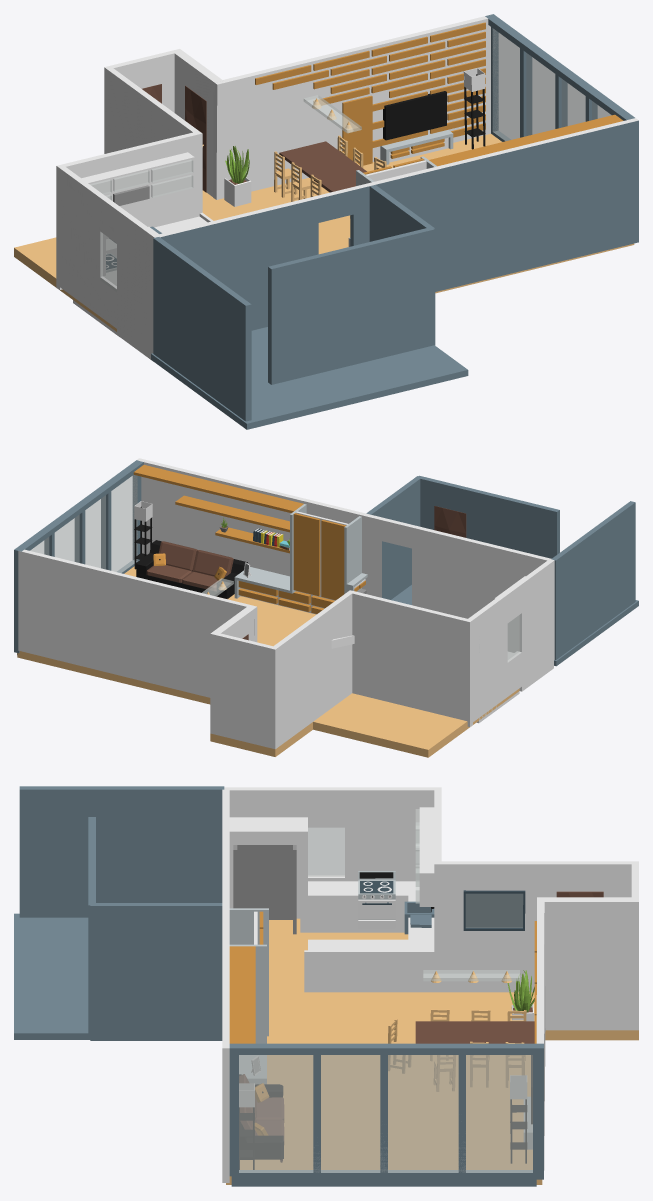
The model's file is Apartment 2.glb.
3 renders of one model, top to bottom at view 1: azimuth 30°, elevation 25°; view 2: azimuth 150°, elevation 25°; view 3: azimuth 270°, elevation 25°, orthographic. The views are drawn at different scales.
Visible parts, largest first — view 1: group1746347321, group926800614, group346189844, group627659848, group1674435249, group1330736771, group787289202, group1969353276, group1898339029, group1656007463, group459815756, group888194674 (+17 smaller); view 2: group346189844, group1898339029, group1746347321, group1969353276, group627659848, group1330736771, group787289202, group1656007463, group1265978389, group926800614, group459815756, group15682012 (+23 smaller); view 3: group787289202, group1969353276, group627659848, group15682012, group1656007463, group919151411, group1674435249, group534979321, group635494593, group1680601114, group1741639174, group1357782384 (+25 smaller).
Part boxes in pixels (bbox=[...]): group1746347321: bbox=[350, 118, 638, 291]; group926800614: bbox=[268, 228, 434, 384]; group346189844: bbox=[213, 16, 490, 199]; group627659848: bbox=[153, 237, 251, 421]; group1674435249: bbox=[151, 327, 468, 429]; group1330736771: bbox=[152, 196, 318, 353]; group787289202: bbox=[485, 14, 634, 141]; group1969353276: bbox=[14, 134, 634, 331]; group1898339029: bbox=[56, 132, 196, 289]; group1656007463: bbox=[107, 68, 202, 216]; group459815756: bbox=[117, 208, 159, 361]; group888194674: bbox=[60, 152, 194, 218]; group346189844: bbox=[18, 549, 257, 697]; group1898339029: bbox=[352, 591, 472, 726]; group1746347321: bbox=[137, 458, 384, 598]; group1969353276: bbox=[17, 566, 519, 757]; group627659848: bbox=[551, 501, 635, 659]; group1330736771: bbox=[412, 525, 554, 666]; group787289202: bbox=[14, 460, 143, 654]; group1656007463: bbox=[274, 590, 354, 746]; group1265978389: bbox=[215, 633, 278, 749]; group926800614: bbox=[419, 475, 559, 558]; group459815756: bbox=[517, 559, 553, 691]; group15682012: bbox=[366, 476, 422, 599]; group787289202: bbox=[229, 1043, 543, 1186]; group1969353276: bbox=[226, 918, 542, 1184]; group627659848: bbox=[19, 786, 224, 917]; group15682012: bbox=[90, 903, 222, 1040]; group1656007463: bbox=[434, 861, 631, 992]; group919151411: bbox=[542, 897, 638, 1030]; group1674435249: bbox=[14, 913, 88, 1039]; group534979321: bbox=[304, 950, 434, 992]; group635494593: bbox=[308, 787, 434, 827]; group1680601114: bbox=[237, 845, 292, 919]; group1741639174: bbox=[308, 881, 411, 932]; group1357782384: bbox=[345, 827, 418, 877].
Bounding box in the file's own units: 1.67 × 0.42 × 1.68.
